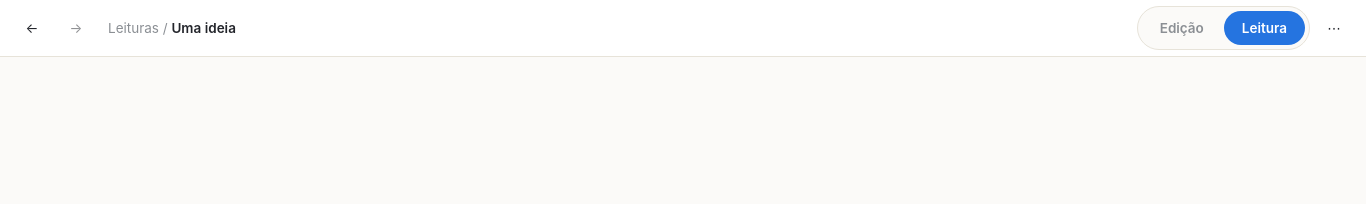
Test: BarraDeNavegacao › fecha menu com Esc e devolve foco
The image size is (1366, 204).
Click the button named "Mais opções" at (1334, 28), box [1314,8,1354,48]
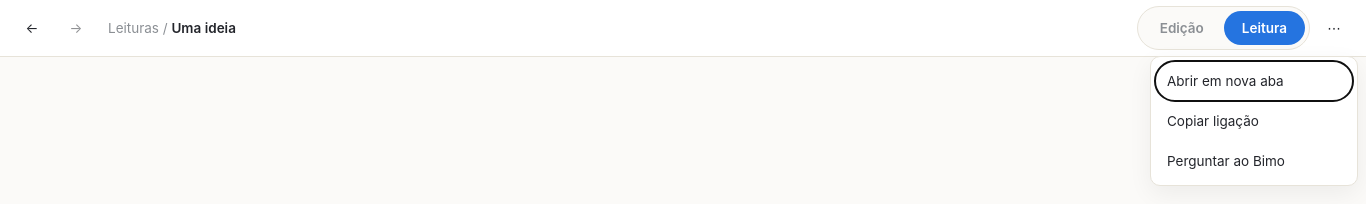
Press Escape
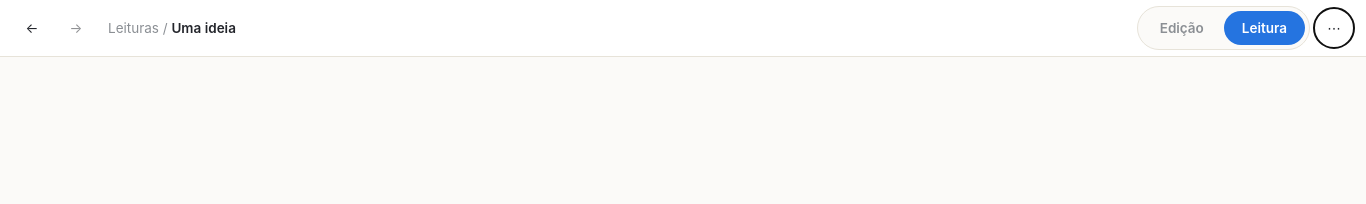
expect the menu is gone: met
